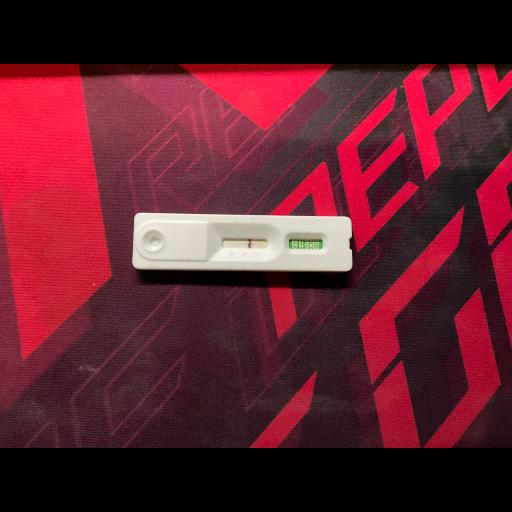Neg: (134, 212, 352, 272)
